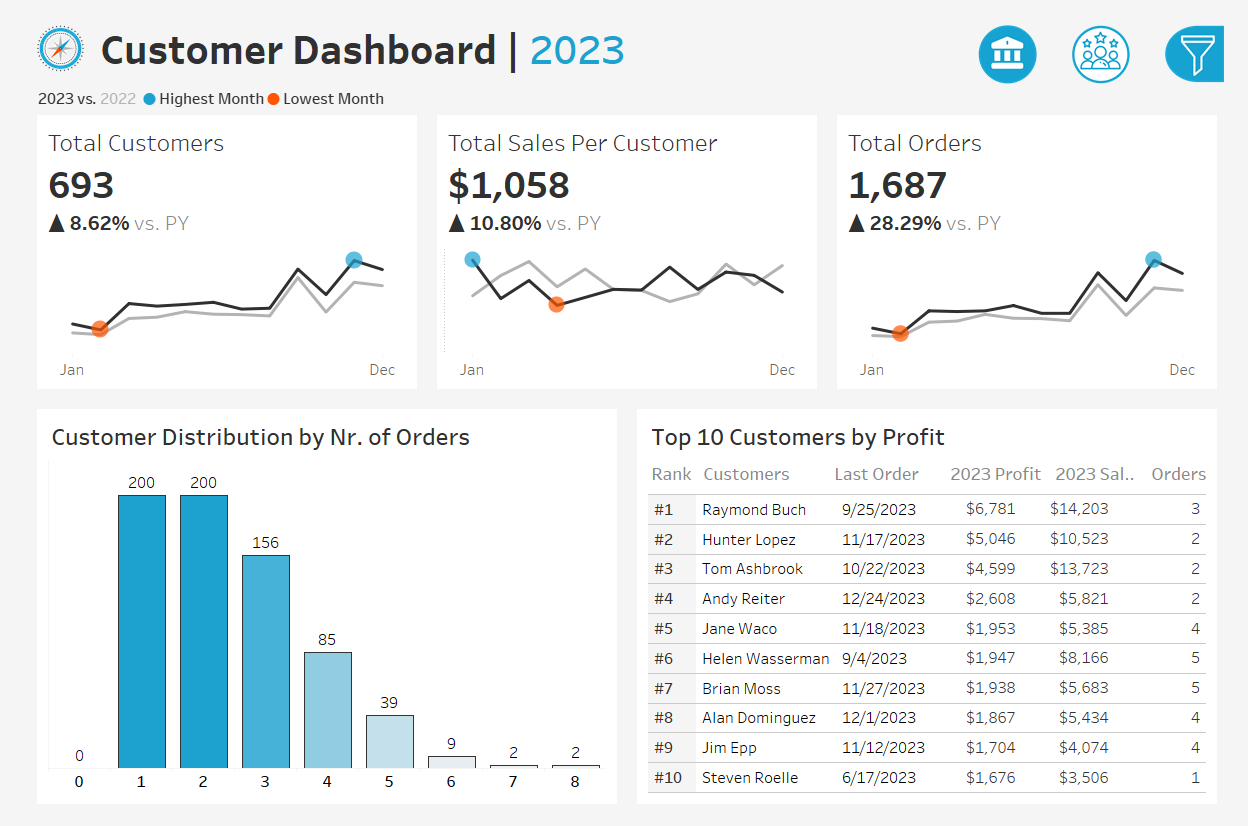

What the dashboard file says about the page in this screenshot:
{"tool":"tableau","page":{"name":"Customer Dashboard","canvas":[1200,800],"ordinal":0},"visuals":[{"type":"image","param":"C:/Users/sanja/OneDrive/Desktop/Projects/Tableau viz project sales/projects/proj","box":[0,0,66,68]},{"type":"text","box":[66,0,1134,68]},{"type":"dashboard-object","box":[934,6,93,68]},{"type":"dashboard-object","box":[1027,6,93,68]},{"type":"blank","box":[941,10,243,113]},{"type":"worksheet","title":"Legend KPI","mark":"Automatic","box":[0,68,1200,33]},{"type":"worksheet","title":"KPI Customers","mark":"Line","rows":["Calculation_3137038640746233895"],"cols":["Order Date"],"box":[0,101,400,284]},{"type":"worksheet","title":"Sales Per Customer","mark":"Automatic","rows":["Calculation_3137038640758210605"],"cols":["Order Date"],"box":[400,101,400,284]},{"type":"worksheet","title":"KPI Orders","mark":"Automatic","rows":["Min/Max Customers (copy)_3137038640766214195"],"cols":["Order Date"],"box":[800,101,400,284]},{"type":"text","box":[941,123,243,40]},{"type":"parameter","param":"[Parameters].[Parameter 1]","box":[941,163,243,60]},{"type":"blank","box":[941,223,243,41]},{"type":"text","box":[941,264,243,33]},{"type":"filter","title":"KPI Customers","param":"[federated.1eohjdj19t7bp8151wfv40vz1qie].[none:Category:nk]","box":[941,297,243,61]},{"type":"filter","title":"KPI Customers","param":"[federated.1eohjdj19t7bp8151wfv40vz1qie].[none:Sub-Category:nk]","box":[941,358,243,61]},{"type":"text","box":[17,402,566,40]},{"type":"text","box":[617,402,566,40]},{"type":"blank","box":[941,419,243,50]},{"type":"worksheet","title":"Customer Distribution","mark":"Automatic","rows":["Calculation_3137038640741589028"],"cols":["Calculation_3137038640776929334"],"box":[17,442,566,341]},{"type":"text","box":[617,442,52,34]},{"type":"text","box":[669,442,131,34]},{"type":"text","box":[800,442,116,34]},{"type":"text","box":[916,442,105,34]},{"type":"text","box":[1021,442,96,34]},{"type":"text","box":[1117,442,66,34]},{"type":"text","box":[941,469,243,33]},{"type":"worksheet","title":"Top Customers","mark":"Automatic","rows":["Calculation_3137038640780722233","Customer Name","Order Date"],"box":[617,476,566,307]},{"type":"filter","title":"KPI Customers","param":"[federated.1eohjdj19t7bp8151wfv40vz1qie].[none:Region:nk]","box":[941,502,243,61]},{"type":"filter","title":"KPI Customers","param":"[federated.1eohjdj19t7bp8151wfv40vz1qie].[none:State:nk]","box":[941,563,243,61]},{"type":"filter","title":"KPI Customers","param":"[federated.1eohjdj19t7bp8151wfv40vz1qie].[none:City:nk]","box":[941,624,243,61]}]}

Visuals, with their boxes in screenshot pixels (x1, y1, x2, y2), scaled from the page's 1200x800 canvas onto the 1248x826 screenshot:
image: bbox(0, 0, 69, 70)
text: bbox(69, 0, 1247, 70)
dashboard-object: bbox(971, 6, 1068, 76)
dashboard-object: bbox(1068, 6, 1165, 76)
blank: bbox(979, 10, 1231, 127)
"Legend KPI" worksheet: bbox(0, 70, 1247, 104)
"KPI Customers" worksheet (Line marks): bbox(0, 104, 416, 398)
"Sales Per Customer" worksheet: bbox(416, 104, 832, 398)
"KPI Orders" worksheet: bbox(832, 104, 1247, 398)
text: bbox(979, 127, 1231, 168)
parameter: bbox(979, 168, 1231, 230)
blank: bbox(979, 230, 1231, 273)
text: bbox(979, 273, 1231, 307)
"KPI Customers" filter: bbox(979, 307, 1231, 370)
"KPI Customers" filter: bbox(979, 370, 1231, 433)
text: bbox(18, 415, 606, 456)
text: bbox(642, 415, 1230, 456)
blank: bbox(979, 433, 1231, 484)
"Customer Distribution" worksheet: bbox(18, 456, 606, 808)
text: bbox(642, 456, 696, 491)
text: bbox(696, 456, 832, 491)
text: bbox(832, 456, 953, 491)
text: bbox(953, 456, 1062, 491)
text: bbox(1062, 456, 1162, 491)
text: bbox(1162, 456, 1230, 491)
text: bbox(979, 484, 1231, 518)
"Top Customers" worksheet: bbox(642, 491, 1230, 808)
"KPI Customers" filter: bbox(979, 518, 1231, 581)
"KPI Customers" filter: bbox(979, 581, 1231, 644)
"KPI Customers" filter: bbox(979, 644, 1231, 707)
